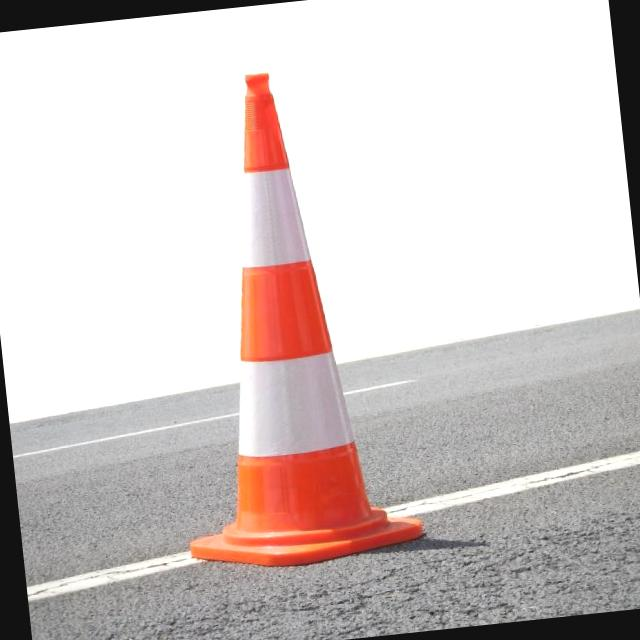Cone: (142, 49, 410, 576)
